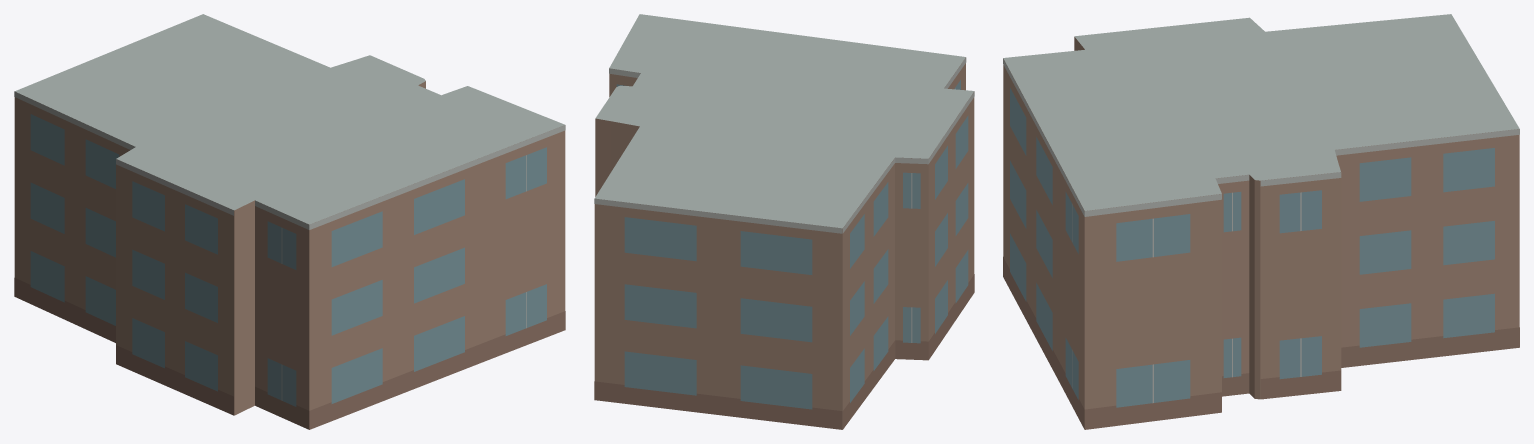
Rendered from survey-upis-32507219.glb.
3 renders of one model, left to right at view 1: azimuth 30°, elevation 25°; view 2: azimuth 150°, elevation 25°; view 3: azimuth 270°, elevation 25°, orthographic. The views are drawn at different scales.
Parts seen in each view (by area): view 1: survey-upis-32507219.tmp; view 2: survey-upis-32507219.tmp; view 3: survey-upis-32507219.tmp.
Boxes of the visible parts, left/top/right/bottom form: survey-upis-32507219.tmp: left=14, top=14, right=565, bottom=429; survey-upis-32507219.tmp: left=594, top=14, right=974, bottom=429; survey-upis-32507219.tmp: left=1003, top=14, right=1519, bottom=429.
Size of the model in its own units: 17.39 by 9 by 19.27.
